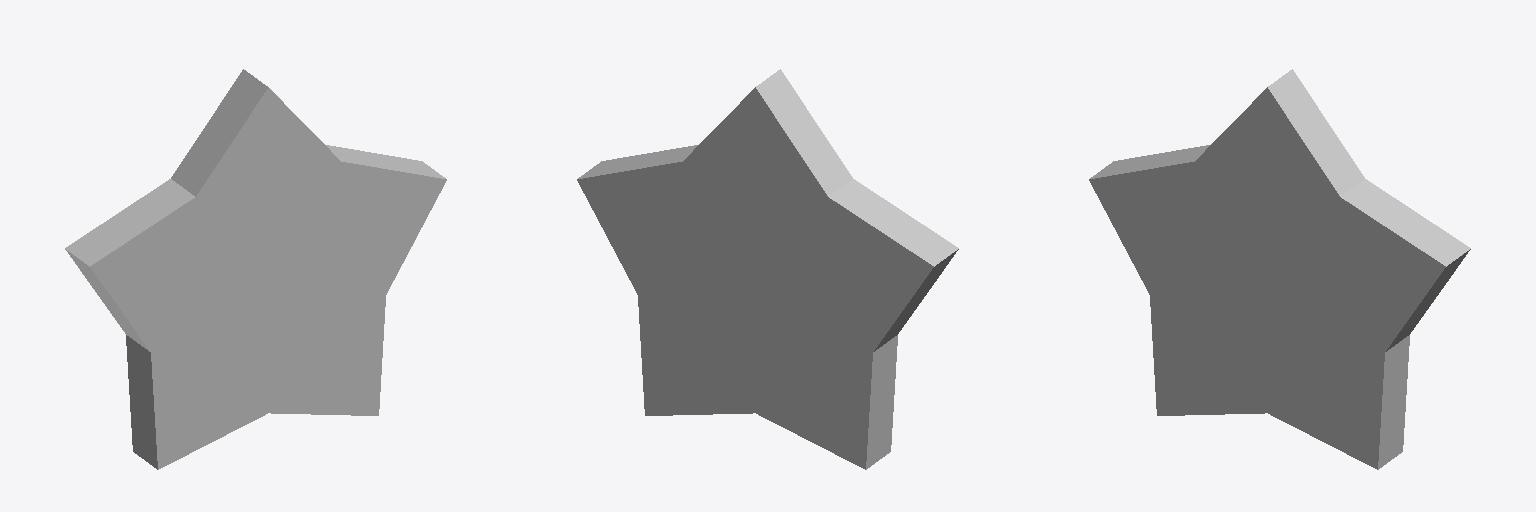
File: star.obj
3 renders of one model, left to right at view 1: azimuth 30°, elevation 25°; view 2: azimuth 150°, elevation 25°; view 3: azimuth 330°, elevation 25°, orthographic.
Parts seen in each view (by area): view 1: star; view 2: star; view 3: star.
Part boxes in pixels (x1,y1,x2,y2): star: (65,69,446,469); star: (577,69,958,469); star: (1089,69,1470,469).
Size of the model in its own units: 2.03 by 1.93 by 0.247.